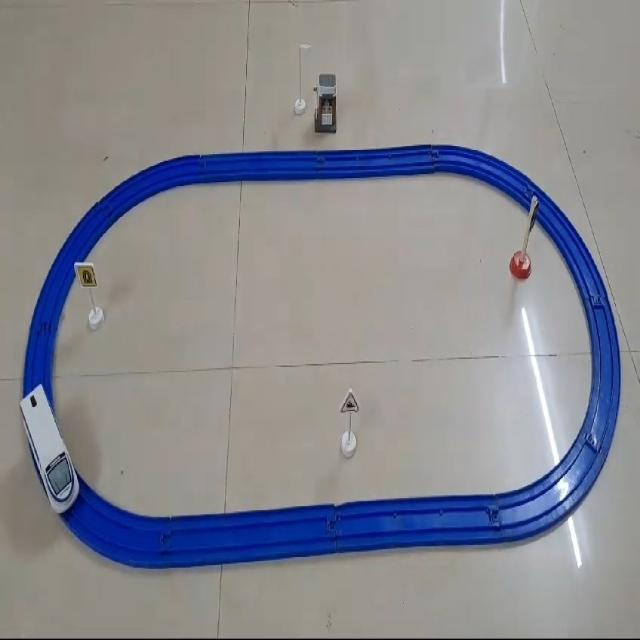bus: (19, 382, 79, 514)
